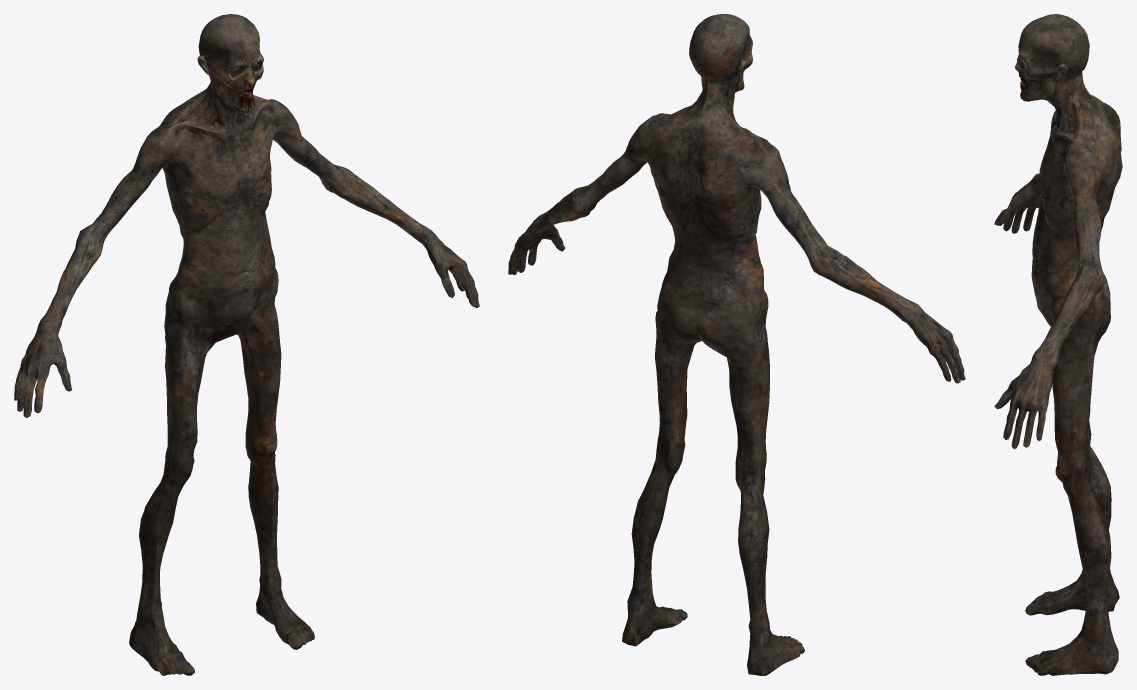
The model's file is zombie_mummy.glb.
3 renders of one model, left to right at view 1: azimuth 30°, elevation 25°; view 2: azimuth 150°, elevation 25°; view 3: azimuth 270°, elevation 25°, orthographic.
Parts seen in each view (by area): view 1: object_0_object_0_0; view 2: object_0_object_0_0; view 3: object_0_object_0_0.
Boxes of the visible parts, x1,y1,x2,y2 form: object_0_object_0_0: (14,14,479,675); object_0_object_0_0: (508,14,965,675); object_0_object_0_0: (994,14,1122,675).
Size of the model in its own units: 1.34 by 1.79 by 0.3331.
Materials: 1 (1 with a texture image).
